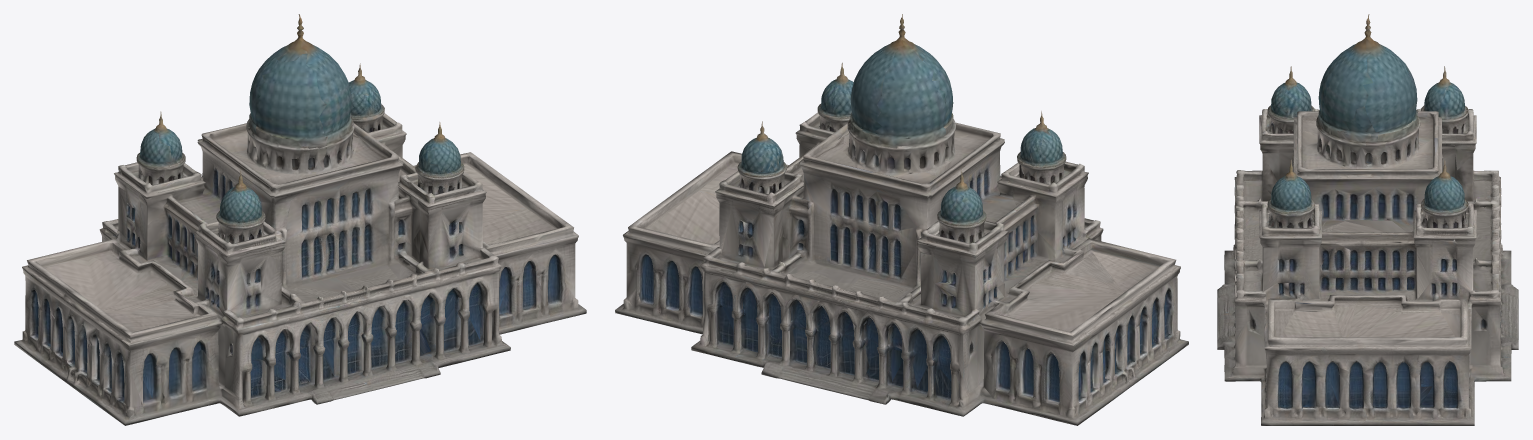
The model's file is Azure_Dome_Palace.glb.
3 views of the same model, side by side, from view 1: azimuth 30°, elevation 25°; view 2: azimuth 150°, elevation 25°; view 3: azimuth 270°, elevation 25° (orthographic). The views are drawn at different scales.
Parts seen in each view (by area): view 1: Azure_Dome_Palace; view 2: Azure_Dome_Palace; view 3: Azure_Dome_Palace.
Boxes of the visible parts, <box> form: Azure_Dome_Palace: <box>14,14,586,425</box>; Azure_Dome_Palace: <box>615,14,1188,425</box>; Azure_Dome_Palace: <box>1217,14,1518,425</box>.
Size of the model in its own units: 1.9 by 1.25 by 1.12.
1 material, 1 textured.
